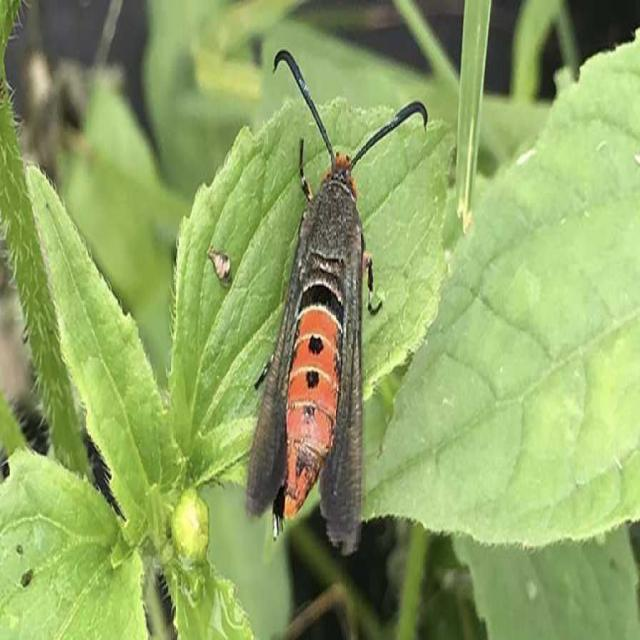squash_vine_borer: (244, 32, 432, 578)
